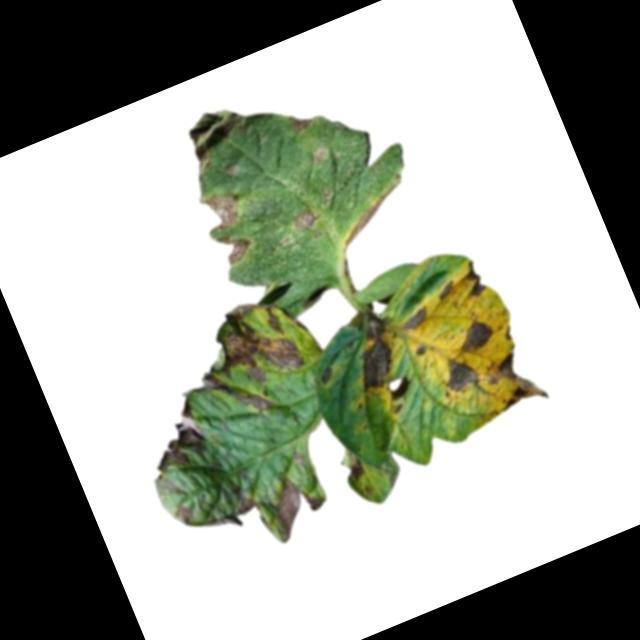Early_blight: (168, 287, 321, 433), (176, 91, 268, 175), (334, 299, 411, 394), (474, 341, 552, 421), (134, 395, 211, 475), (328, 184, 409, 248), (263, 467, 332, 539), (197, 184, 245, 232), (435, 351, 482, 398), (452, 312, 499, 356), (212, 224, 255, 267), (456, 256, 490, 298), (396, 302, 436, 335), (290, 202, 322, 232), (285, 107, 315, 135), (231, 491, 261, 518), (169, 498, 196, 526), (432, 276, 459, 300), (345, 458, 368, 483), (315, 361, 338, 383), (413, 342, 426, 356)
